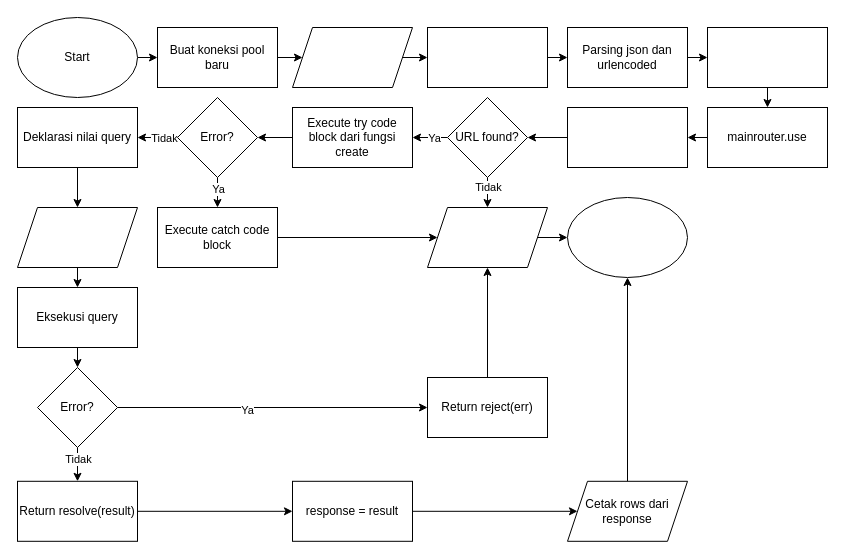
The diagram is 845 pixels wide and 559 high, and some of its shapes have lost their labels. The shapes that lost their labels are listed below. From the top down, each one's centre as x and y in pixels, then its label:
[352,57]: Input parameter dari database
[487,57]: Konek postgreDB
[767,57]: server.use
[627,137]: userRouter.post
[77,237]: Input value dari setiap parameter yang dibutuhkan
[487,237]: cetak error dan response error
[627,237]: End
